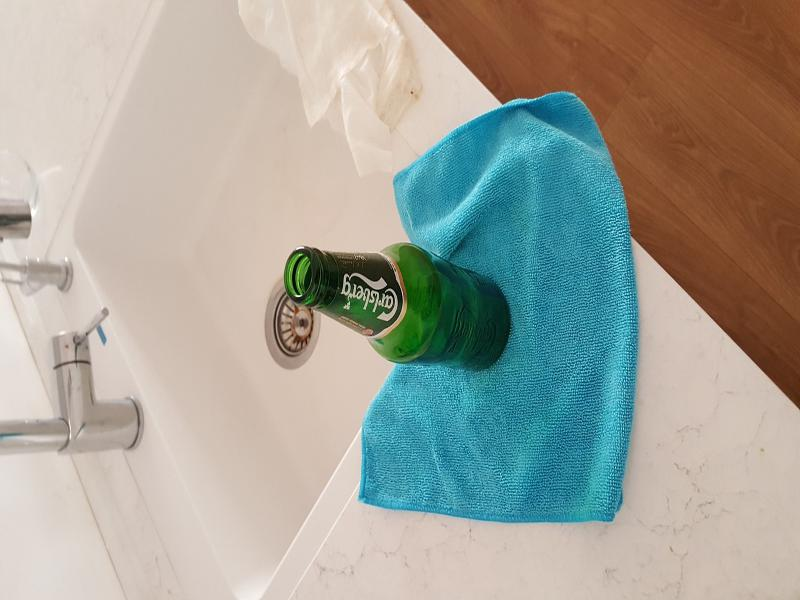Beer: (287, 241, 513, 367)
